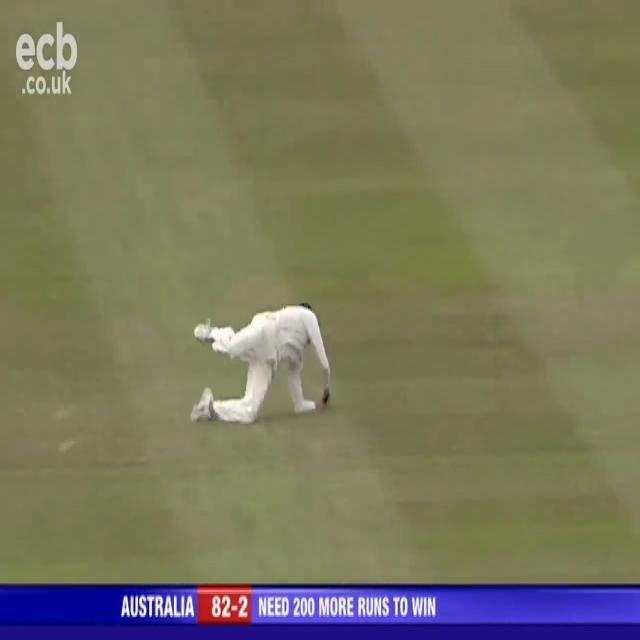ball: (320, 388, 330, 407)
